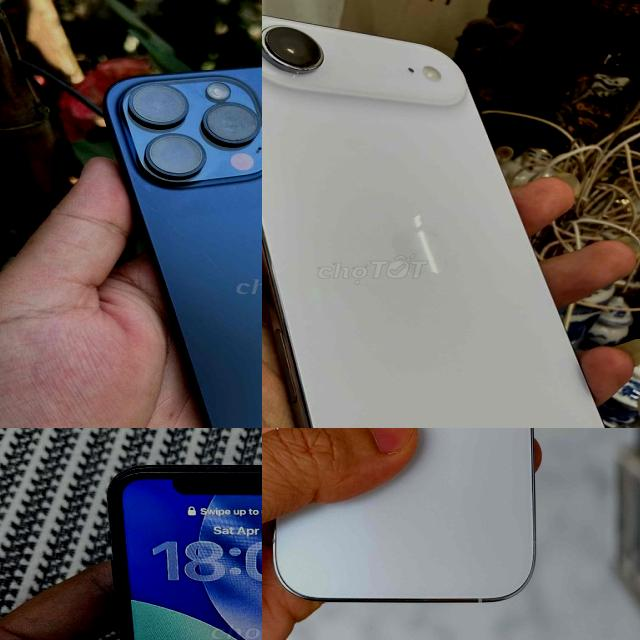gen_11: (108, 465, 262, 640)
gen_14: (273, 428, 543, 610)
gen_15: (91, 60, 262, 428)
gen_17: (262, 0, 630, 428)
